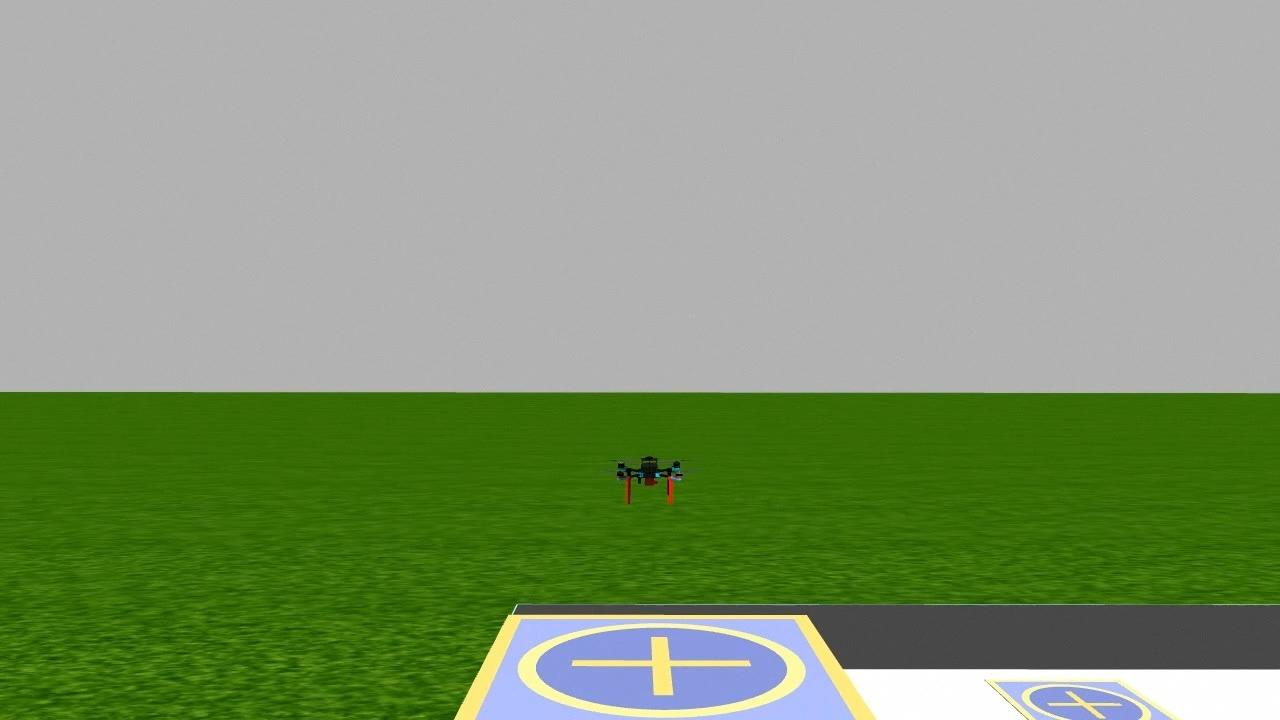UAV: (602, 434, 698, 514)
